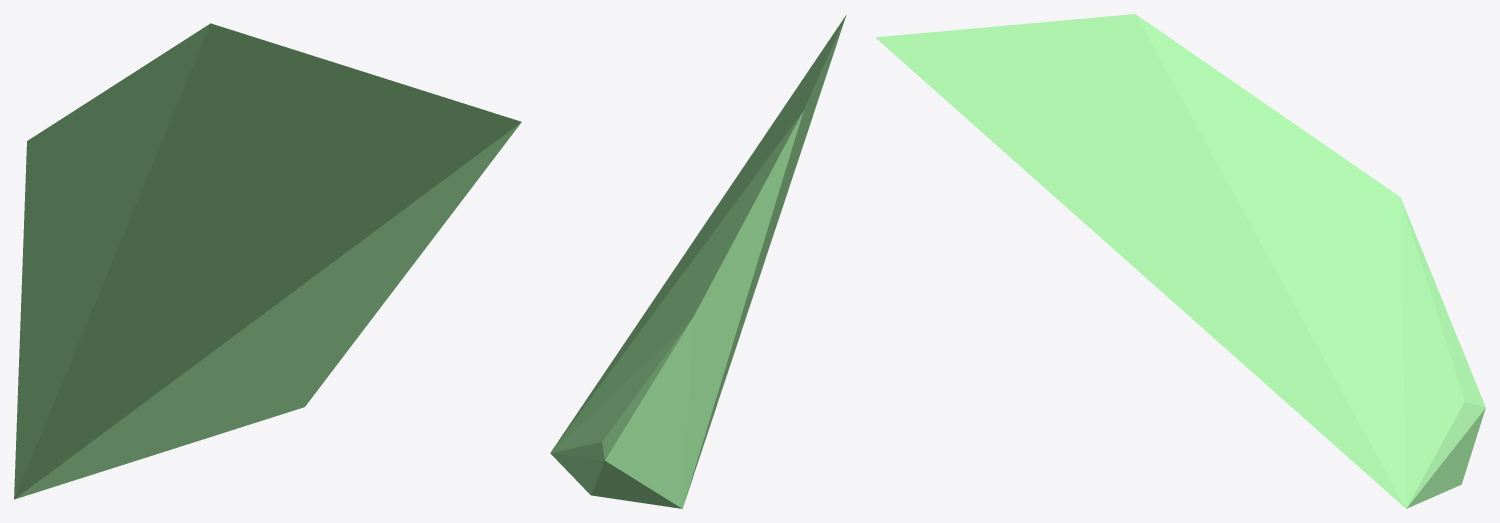
Rendered from dvkr_robot_L3_dx_respondable_TOOL2_coll_9.dae.
3 renders of one model, left to right at view 1: azimuth 30°, elevation 25°; view 2: azimuth 150°, elevation 25°; view 3: azimuth 270°, elevation 25°, orthographic. The views are drawn at different scales.
Visible parts, largest first — view 1: Node_0000023515114AE0; view 2: Node_0000023515114AE0; view 3: Node_0000023515114AE0.
Part boxes in pixels (x1,y1,x2,y2): Node_0000023515114AE0: (14, 23, 521, 499); Node_0000023515114AE0: (550, 15, 846, 508); Node_0000023515114AE0: (875, 14, 1485, 508).
Size of the model in its own units: 0.000871 by 0.00183 by 0.00234.
